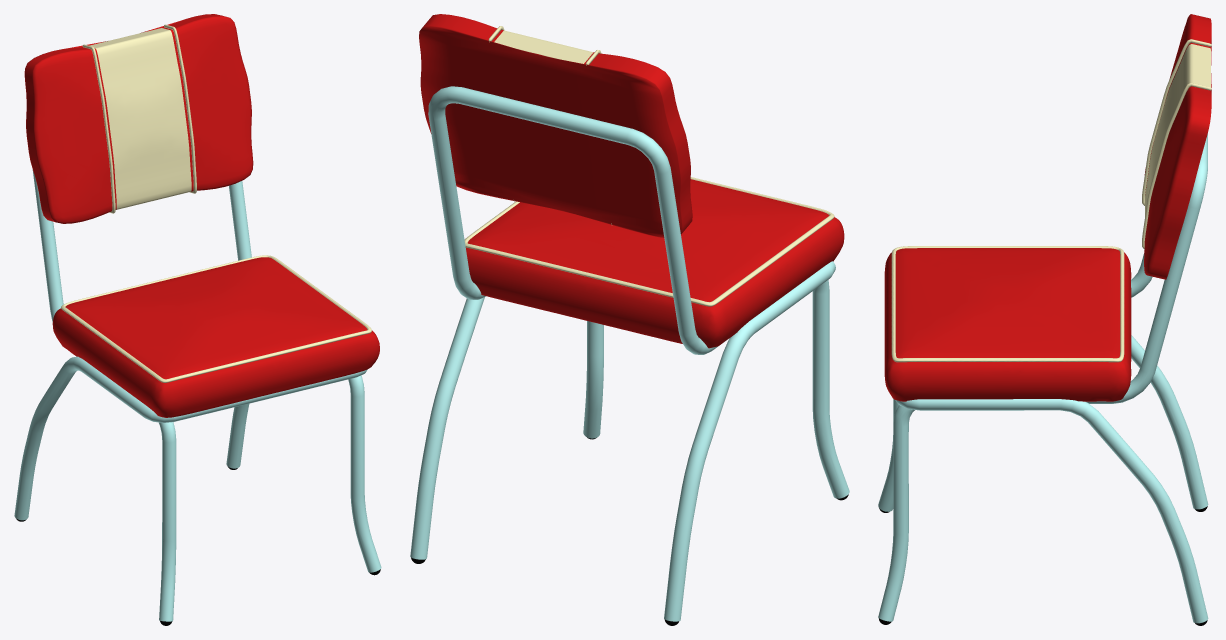
The model's file is diner_chair.glb.
3 renders of one model, left to right at view 1: azimuth 30°, elevation 25°; view 2: azimuth 150°, elevation 25°; view 3: azimuth 270°, elevation 25°, orthographic. The views are drawn at different scales.
Visible parts, largest first — view 1: Cube2_extract4_default.000_seatcover_0, Cube2_extract4_default.000_piping_0, Cube2_extract4_default.000_chrome_0; view 2: Cube2_extract4_default.000_seatcover_0, Cube2_extract4_default.000_chrome_0, Cube2_extract4_default.000_piping_0; view 3: Cube2_extract4_default.000_seatcover_0, Cube2_extract4_default.000_chrome_0, Cube2_extract4_default.000_piping_0.
Part boxes in pixels (x1=…): Cube2_extract4_default.000_seatcover_0: x1=24, y1=14, x2=379, y2=417; Cube2_extract4_default.000_piping_0: x1=61, y1=24, x2=371, y2=382; Cube2_extract4_default.000_chrome_0: x1=14, y1=169, x2=381, y2=621; Cube2_extract4_default.000_seatcover_0: x1=419, y1=14, x2=844, y2=348; Cube2_extract4_default.000_chrome_0: x1=410, y1=86, x2=849, y2=621; Cube2_extract4_default.000_piping_0: x1=464, y1=26, x2=834, y2=306; Cube2_extract4_default.000_seatcover_0: x1=884, y1=14, x2=1211, y2=401; Cube2_extract4_default.000_chrome_0: x1=878, y1=133, x2=1208, y2=623; Cube2_extract4_default.000_piping_0: x1=891, y1=39, x2=1211, y2=362.
Bounding box in the file's own units: 480 × 937 × 557.
